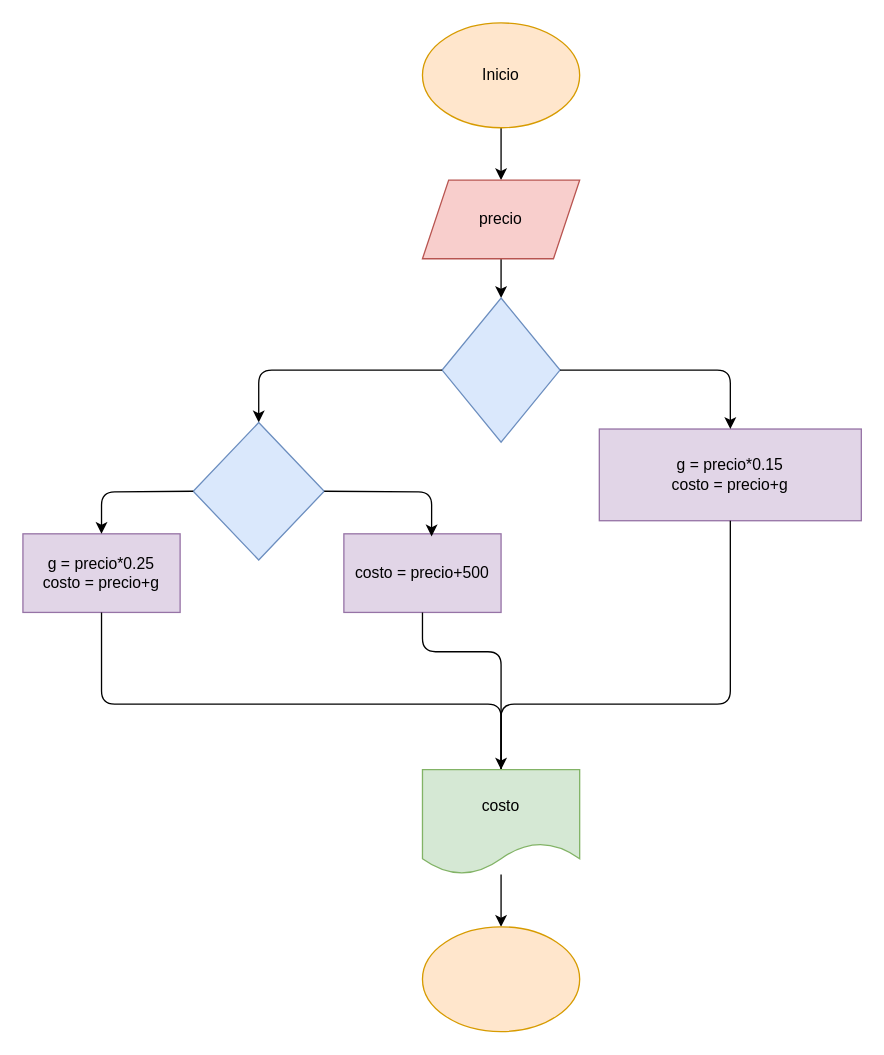
This 884x1055 diagram has some shape labels left out. The centre of each missing label's shape, as x and y in pixels:
Fin: the point at 500,979
precio < 3000: the point at 500,369
precio < = 6000: the point at 258,490
